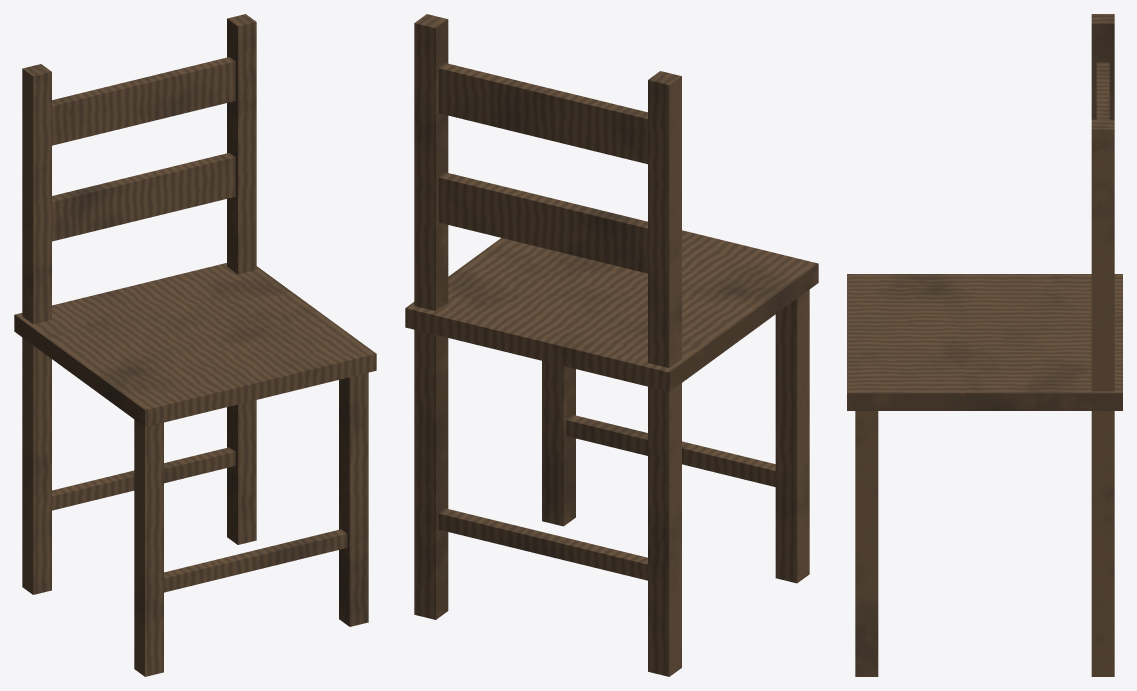
Rendered from SM_Chair_Wooden.fbx.
3 renders of one model, left to right at view 1: azimuth 30°, elevation 25°; view 2: azimuth 150°, elevation 25°; view 3: azimuth 270°, elevation 25°, orthographic. The views are drawn at different scales.
Visible parts, largest first — view 1: SM_Chair_Wooden; view 2: SM_Chair_Wooden; view 3: SM_Chair_Wooden.
Part boxes in pixels (left/top/right/bottom): SM_Chair_Wooden: left=14, top=14, right=376, bottom=676; SM_Chair_Wooden: left=405, top=14, right=818, bottom=676; SM_Chair_Wooden: left=847, top=14, right=1122, bottom=676.
Size of the model in its own units: 0.43 by 0.92 by 0.42.
1 material, 1 textured.
